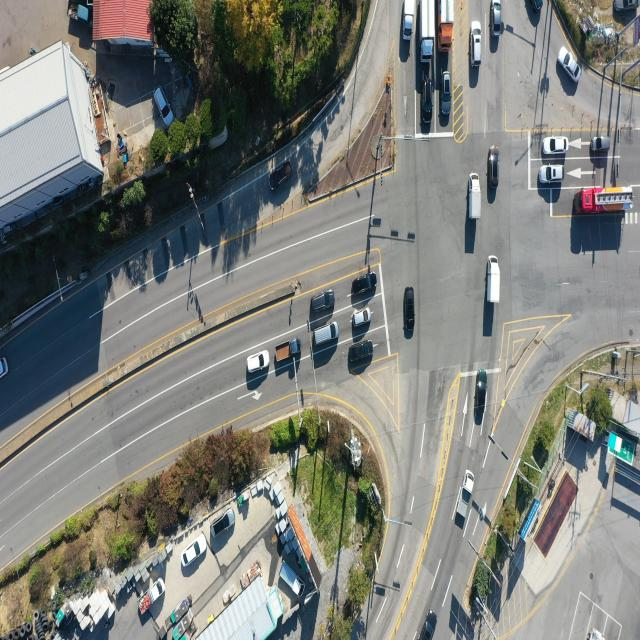car: (180, 532, 206, 572), (153, 84, 172, 126), (558, 48, 580, 84), (269, 160, 293, 192), (211, 510, 234, 540), (348, 340, 374, 365), (474, 369, 486, 422), (351, 272, 376, 297), (313, 324, 339, 348), (312, 290, 338, 314), (406, 289, 417, 341), (488, 0, 501, 43), (247, 351, 270, 374), (419, 611, 437, 640), (541, 136, 567, 156), (442, 73, 453, 119), (539, 166, 563, 185), (422, 79, 432, 121), (352, 308, 372, 328), (471, 22, 480, 66), (490, 150, 500, 188), (592, 136, 612, 152), (615, 0, 639, 13), (0, 357, 8, 386)
medium_truck: (574, 186, 632, 210), (420, 0, 438, 62), (437, 0, 453, 51)
small_truck: (453, 468, 475, 530), (139, 577, 166, 615), (281, 560, 303, 597), (274, 339, 301, 363), (468, 172, 482, 218), (404, 1, 418, 42), (488, 254, 499, 303), (68, 2, 88, 24)
